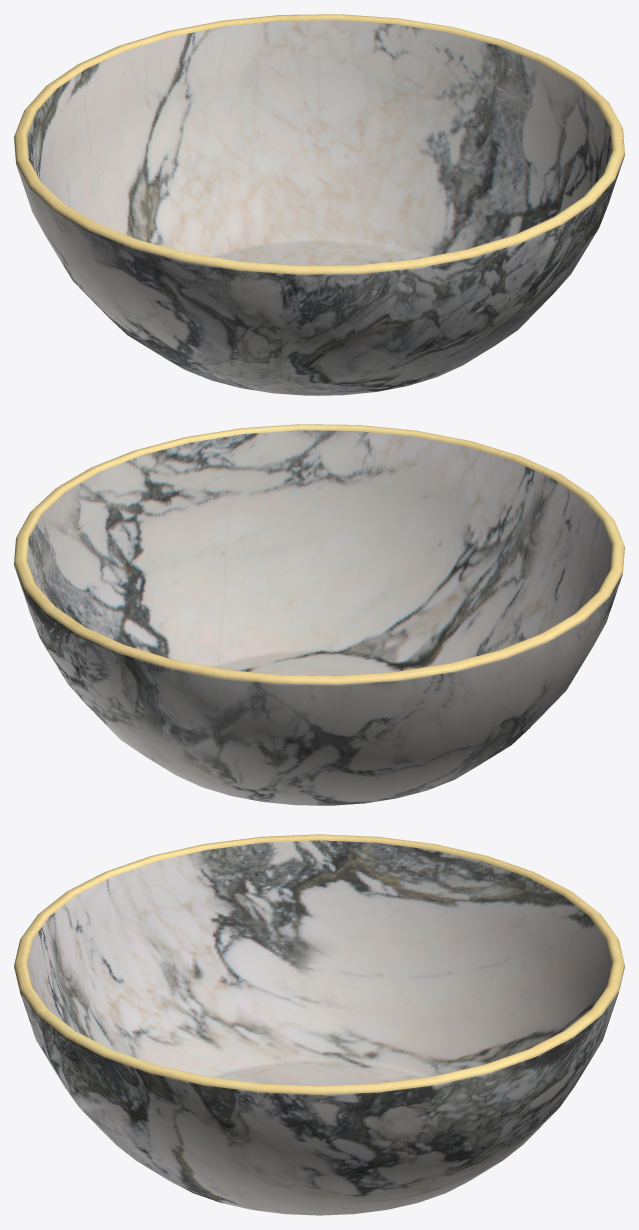
Rendered from porselen-beyaz-kase.glb.
3 renders of one model, top to bottom at view 1: azimuth 30°, elevation 25°; view 2: azimuth 150°, elevation 25°; view 3: azimuth 270°, elevation 25°, orthographic.
Visible parts, largest first — view 1: Marble Bowl; view 2: Marble Bowl; view 3: Marble Bowl.
Boxes of the visible parts, x1,y1,x2,y2 form: Marble Bowl: (14,14,624,395); Marble Bowl: (14,424,624,805); Marble Bowl: (14,834,624,1215).
Size of the model in its own units: 0.2517 by 0.0831 by 0.2517.
Materials: 2 (2 with a texture image).
